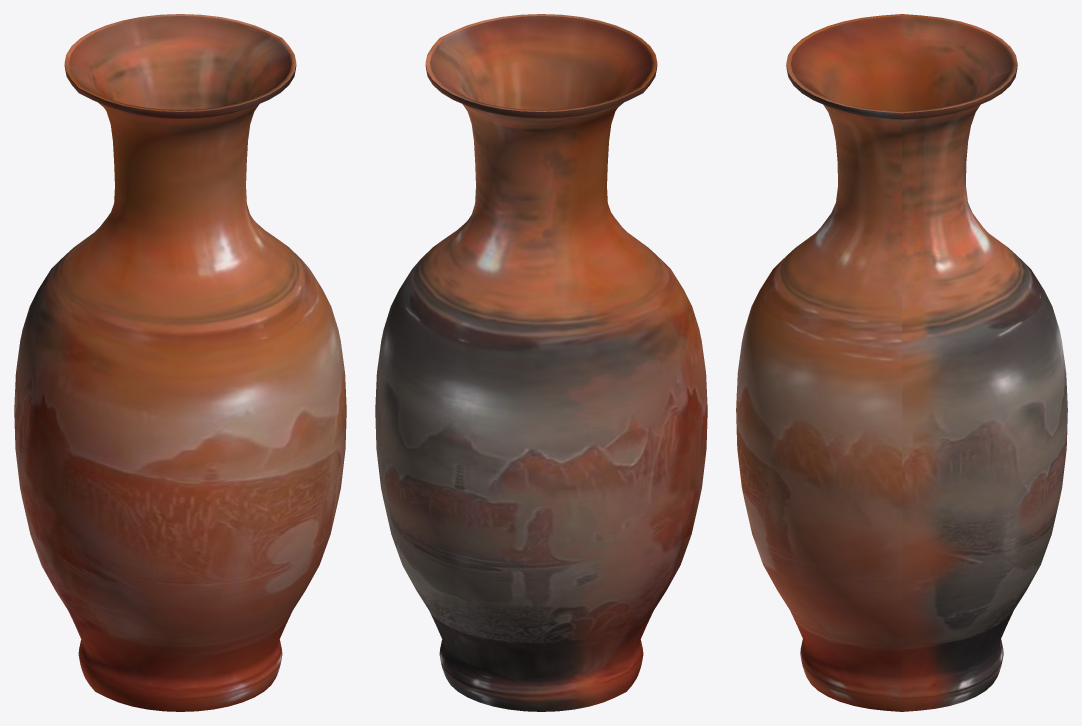
Rendered from CTYB02.FBX.
The picture shows the model from 3 angles, left to right: view 1: azimuth 30°, elevation 25°; view 2: azimuth 150°, elevation 25°; view 3: azimuth 270°, elevation 25°; orthographic projection.
Visible parts, largest first — view 1: yanyaochahuc; view 2: yanyaochahuc; view 3: yanyaochahuc.
Boxes of the visible parts, <box> form: yanyaochahuc: <box>14,14,346,711</box>; yanyaochahuc: <box>375,14,707,711</box>; yanyaochahuc: <box>736,14,1067,711</box>.
Bounding box in the file's own units: 7.72 × 15.34 × 7.6.
1 material, 1 textured.
